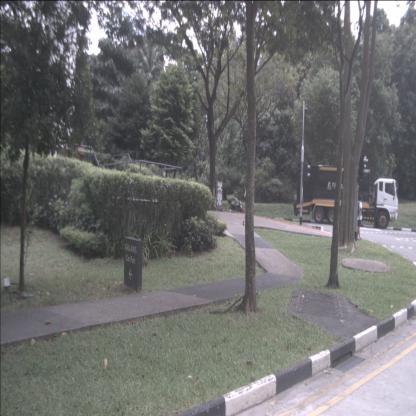human-pedestrian-adult: (356, 195, 364, 242)
vehicle-motorcycle: (227, 192, 245, 218)
vehicle-truck: (294, 164, 398, 229)
